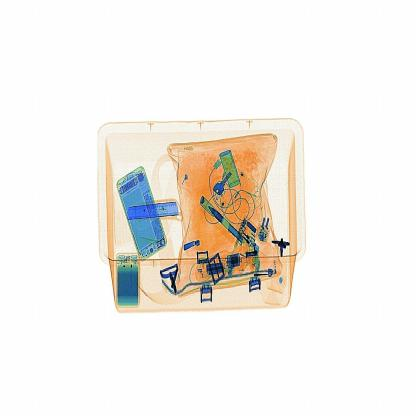pliers: (127, 193, 185, 225)
